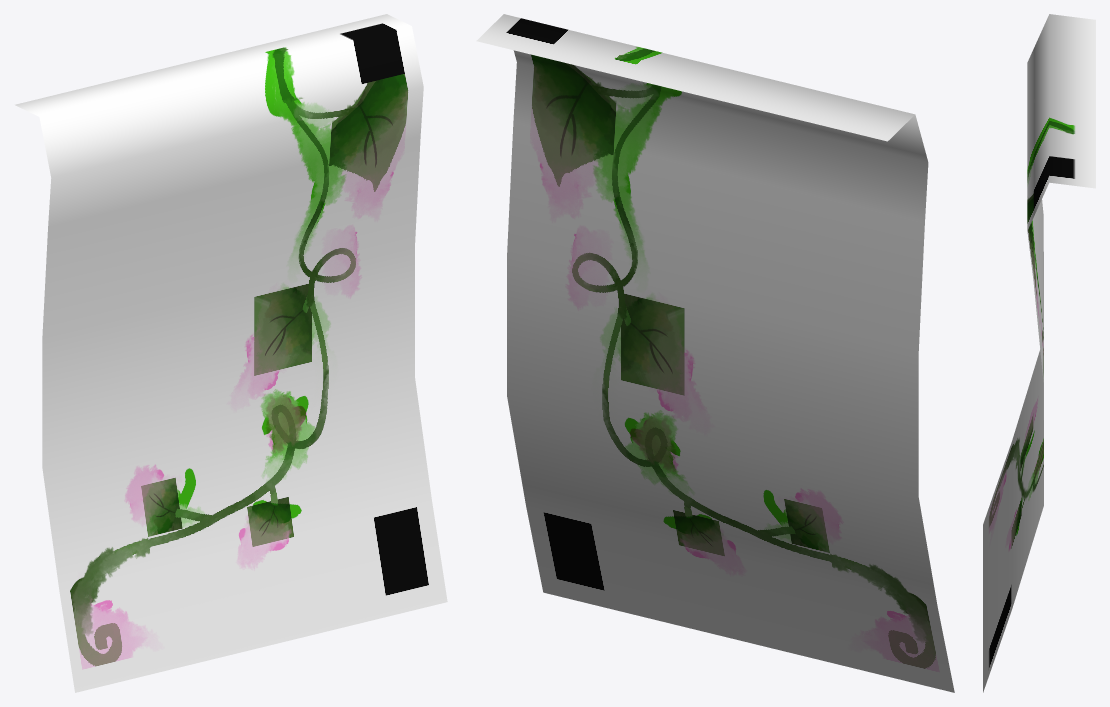
Rendered from SmallVineStraight.fbx.
3 renders of one model, left to right at view 1: azimuth 30°, elevation 25°; view 2: azimuth 150°, elevation 25°; view 3: azimuth 270°, elevation 25°, orthographic. The views are drawn at different scales.
Visible parts, largest first — view 1: SmallVineStraigt; view 2: SmallVineStraigt; view 3: SmallVineStraigt.
Part boxes in pixels (bbox=[...]): SmallVineStraigt: bbox=[15, 14, 447, 692]; SmallVineStraigt: bbox=[476, 14, 954, 692]; SmallVineStraigt: bbox=[983, 14, 1095, 692].
Bounding box in the file's own units: 0.2439 × 0.3439 × 0.0689.
Materials: 1 (1 with a texture image).
